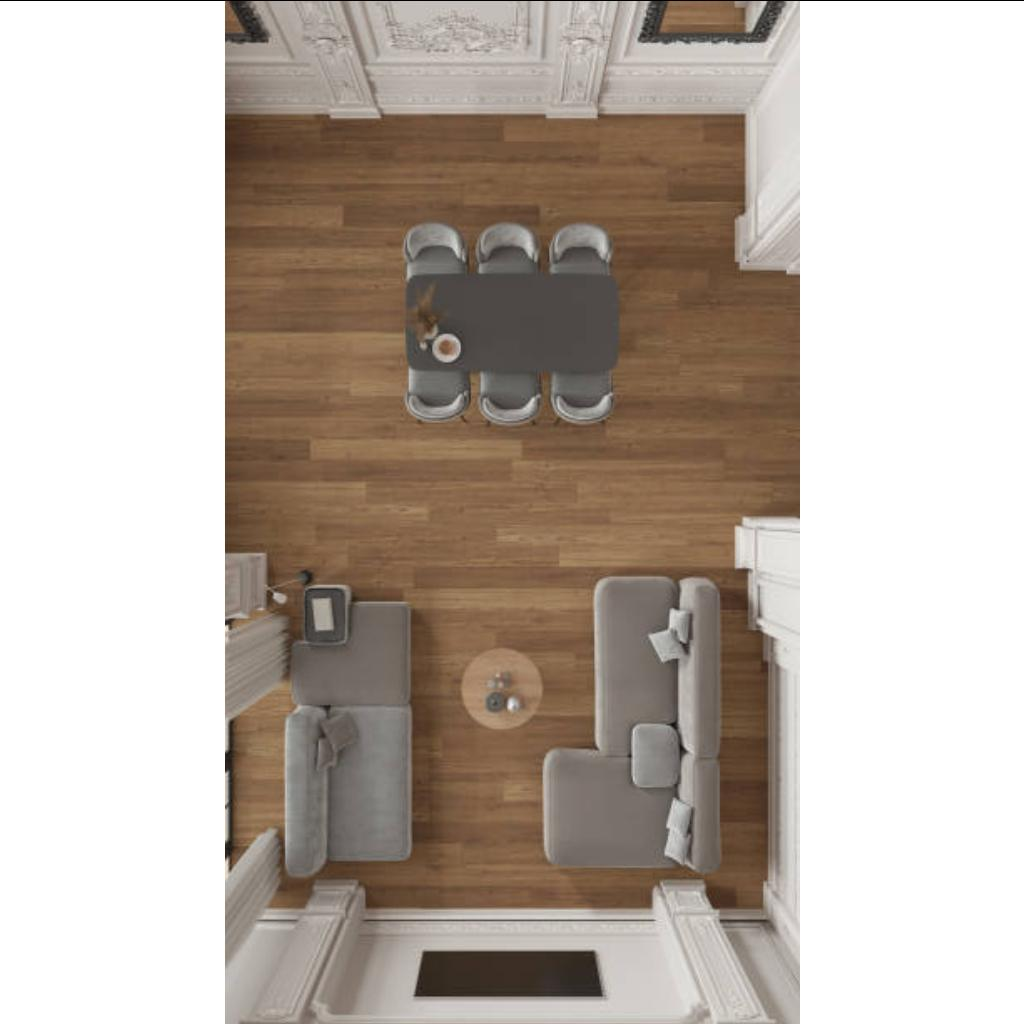TV stand: (352, 910, 652, 1020)
chair: (403, 372, 471, 422), (402, 222, 470, 268), (480, 372, 542, 422), (552, 376, 614, 424), (550, 218, 612, 266), (477, 222, 543, 266)
chair-bed: (542, 753, 722, 871)
coffee table: (460, 646, 544, 732)
dining table: (404, 273, 618, 367)
floor lamp: (287, 564, 313, 586)
ottoman: (294, 596, 408, 698)
sofa: (595, 574, 721, 750), (284, 702, 410, 876)
window: (224, 617, 236, 965)
